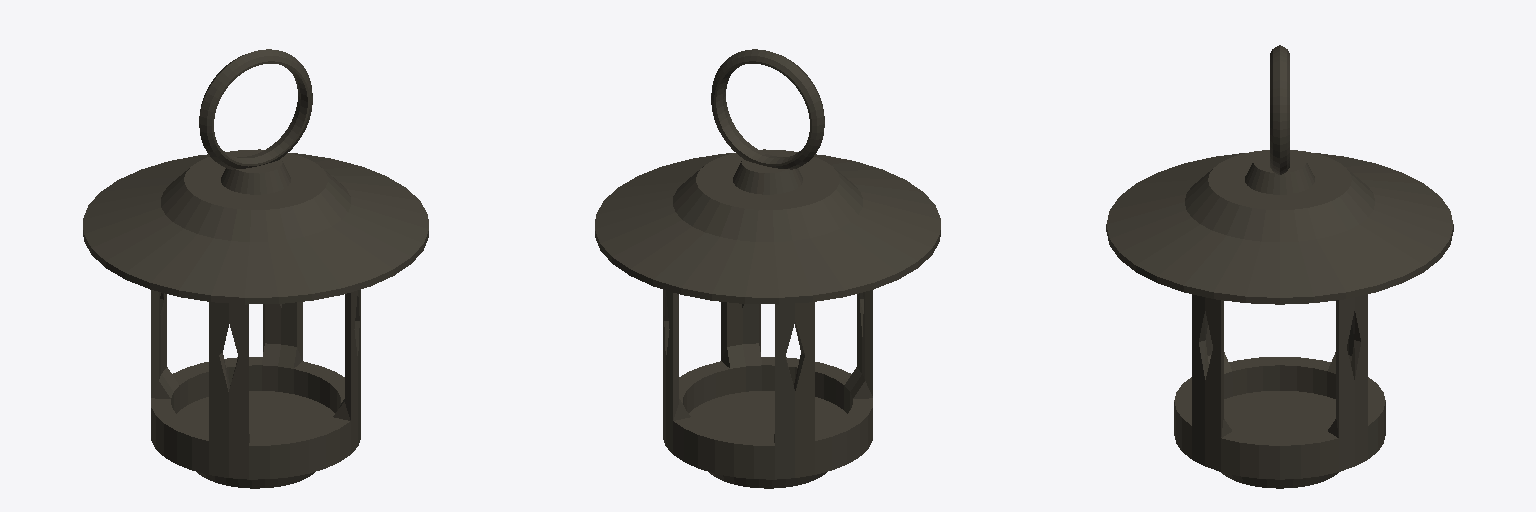
The picture shows the model from 3 angles: view 1: azimuth 30°, elevation 25°; view 2: azimuth 150°, elevation 25°; view 3: azimuth 270°, elevation 25°; orthographic projection.
Parts seen in each view (by area): view 1: 円柱_円柱.003; view 2: 円柱_円柱.003; view 3: 円柱_円柱.003.
Boxes of the visible parts, <box> form: 円柱_円柱.003: <box>83,49,428,488</box>; 円柱_円柱.003: <box>595,49,940,488</box>; 円柱_円柱.003: <box>1106,45,1453,488</box>.
Size of the model in its own units: 5.32 by 6.94 by 5.32.
1 materials, 1 textured.